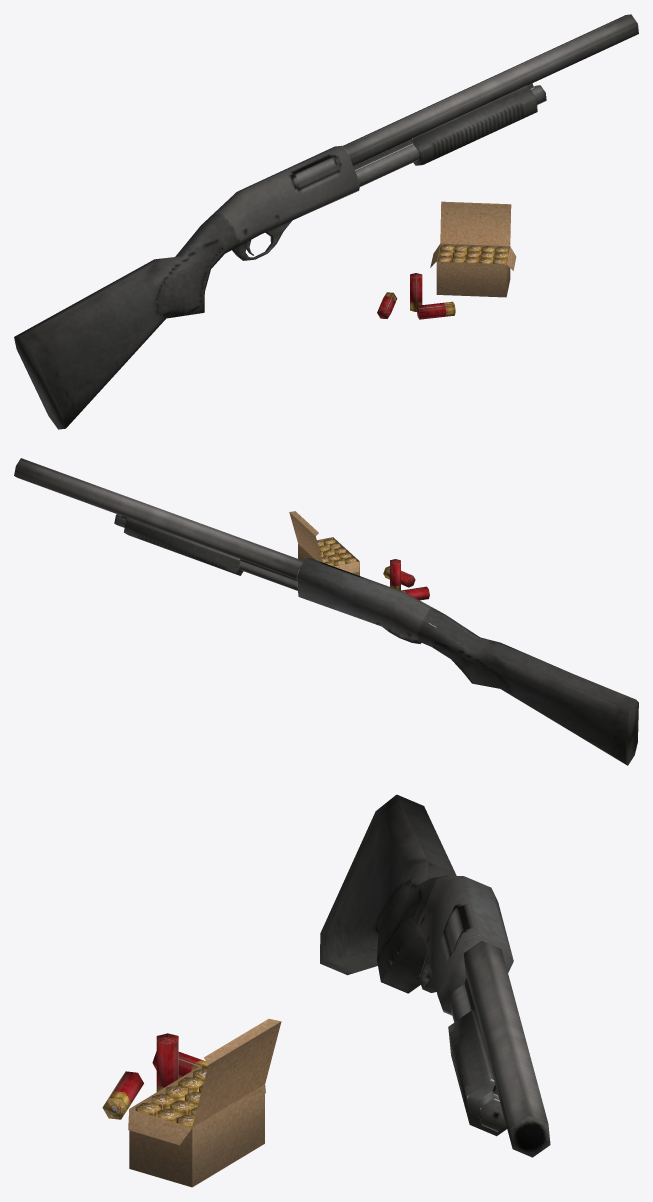
The model's file is Shotgun.fbx.
3 views of the same model, one above another, from view 1: azimuth 30°, elevation 25°; view 2: azimuth 150°, elevation 25°; view 3: azimuth 270°, elevation 25° (orthographic). The views are drawn at different scales.
Visible parts, largest first — view 1: Shotgun, Barrel.001, Forend.001, AmmoBox1, AmmoBox, Magazine Tube.001, Shells.001, Shells; view 2: Shotgun, Barrel.001, Forend.001, Magazine Tube.001, AmmoBox1, Shells.001, Shells; view 3: Shotgun, Barrel.001, AmmoBox, AmmoBox1, Forend.001, Shells.001, Shells, Magazine Tube.001, AmmoBox2, Shell.
Part boxes in pixels (x1,y1,x2,y2): Shotgun: [14, 145, 359, 429]; Barrel.001: [343, 14, 638, 165]; Forend.001: [411, 85, 537, 165]; AmmoBox1: [440, 201, 511, 246]; AmmoBox: [436, 243, 510, 297]; Magazine Tube.001: [353, 83, 546, 186]; Shells.001: [438, 244, 508, 264]; Shells: [377, 292, 455, 319]; Shotgun: [296, 557, 638, 765]; Barrel.001: [14, 458, 303, 579]; Forend.001: [124, 518, 243, 575]; Magazine Tube.001: [114, 514, 297, 590]; AmmoBox1: [289, 511, 322, 562]; Shells.001: [306, 538, 356, 566]; Shells: [383, 566, 429, 600]; Shotgun: [320, 794, 513, 1015]; Barrel.001: [463, 941, 550, 1157]; AmmoBox: [129, 1065, 264, 1187]; AmmoBox1: [192, 1018, 281, 1126]; Forend.001: [448, 1009, 506, 1136]; Shells.001: [135, 1068, 210, 1127]; Shells: [102, 1051, 208, 1119]; Magazine Tube.001: [449, 978, 506, 1131]; AmmoBox2: [128, 1085, 265, 1145]; Shell: [156, 1033, 178, 1091].
Bounding box in the file's own units: 491 × 163 × 163.
Materials: 2 (2 with a texture image).
